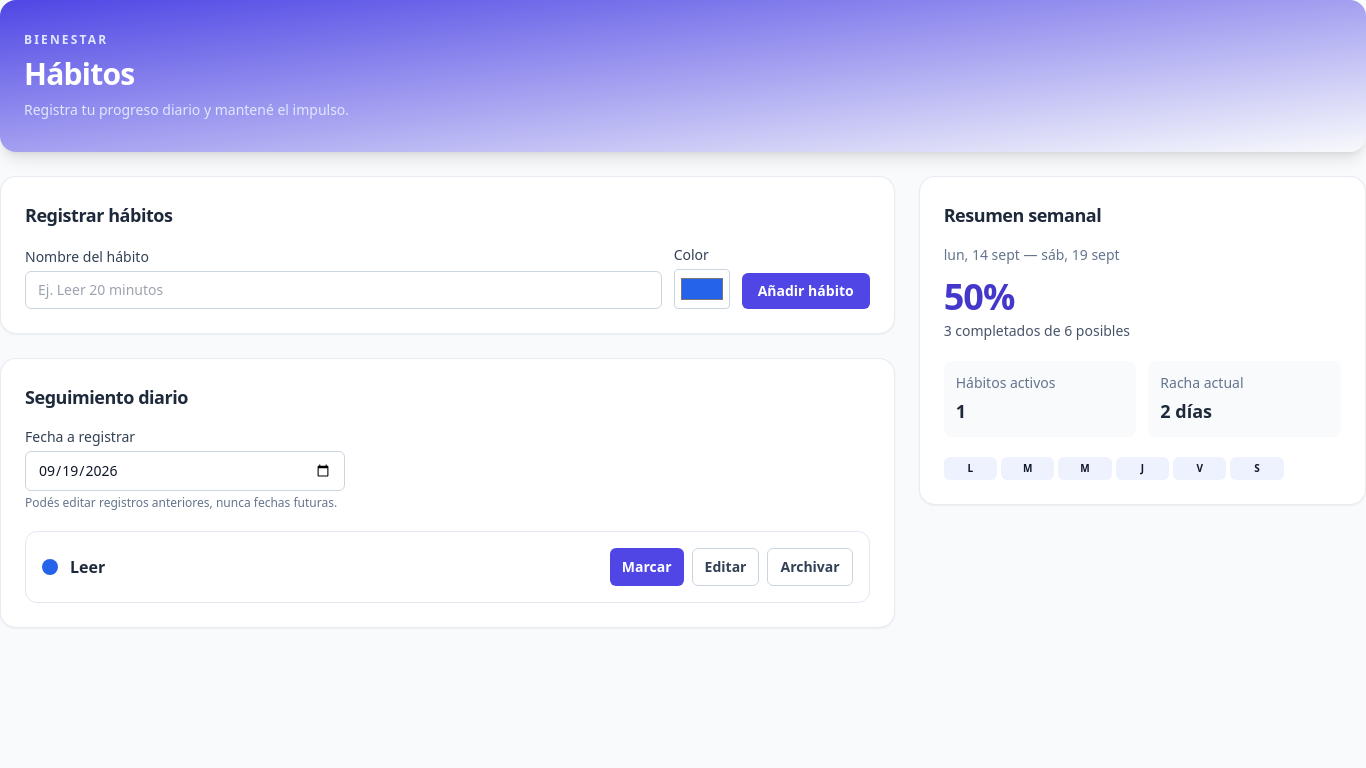
HabitsPage › does not allow marking a future date
expect the text "Leer" is shown: met, box left=70, top=555, right=105, bottom=579
Type "2026-09-20" into the date field labelled "Fecha a registrar".
click(185, 471); type("2026-09-20")  # box left=25, top=451, right=345, bottom=491
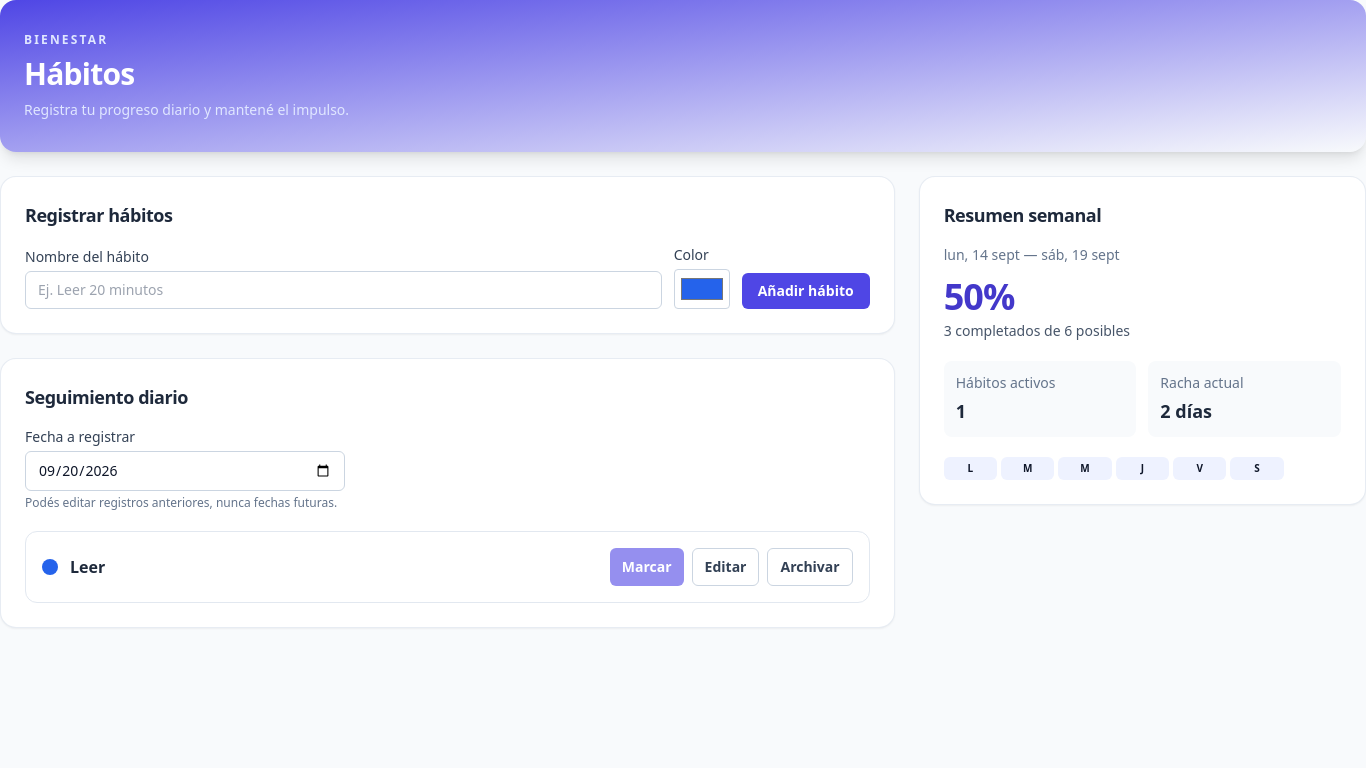
expect the button "Marcar" is disabled: met, box left=610, top=548, right=684, bottom=586
